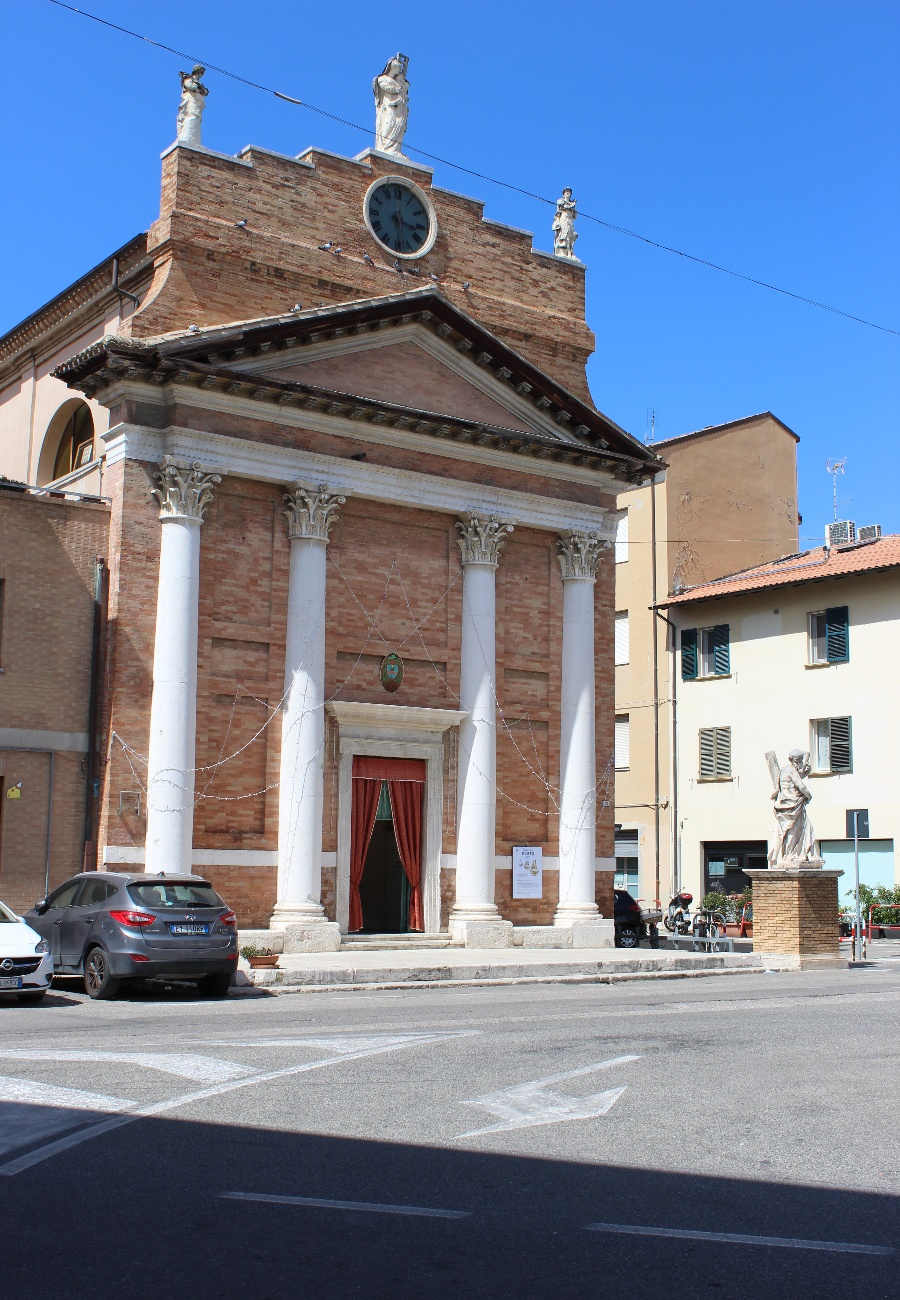Parrocchia Santa Maria: (94, 50, 659, 974)
